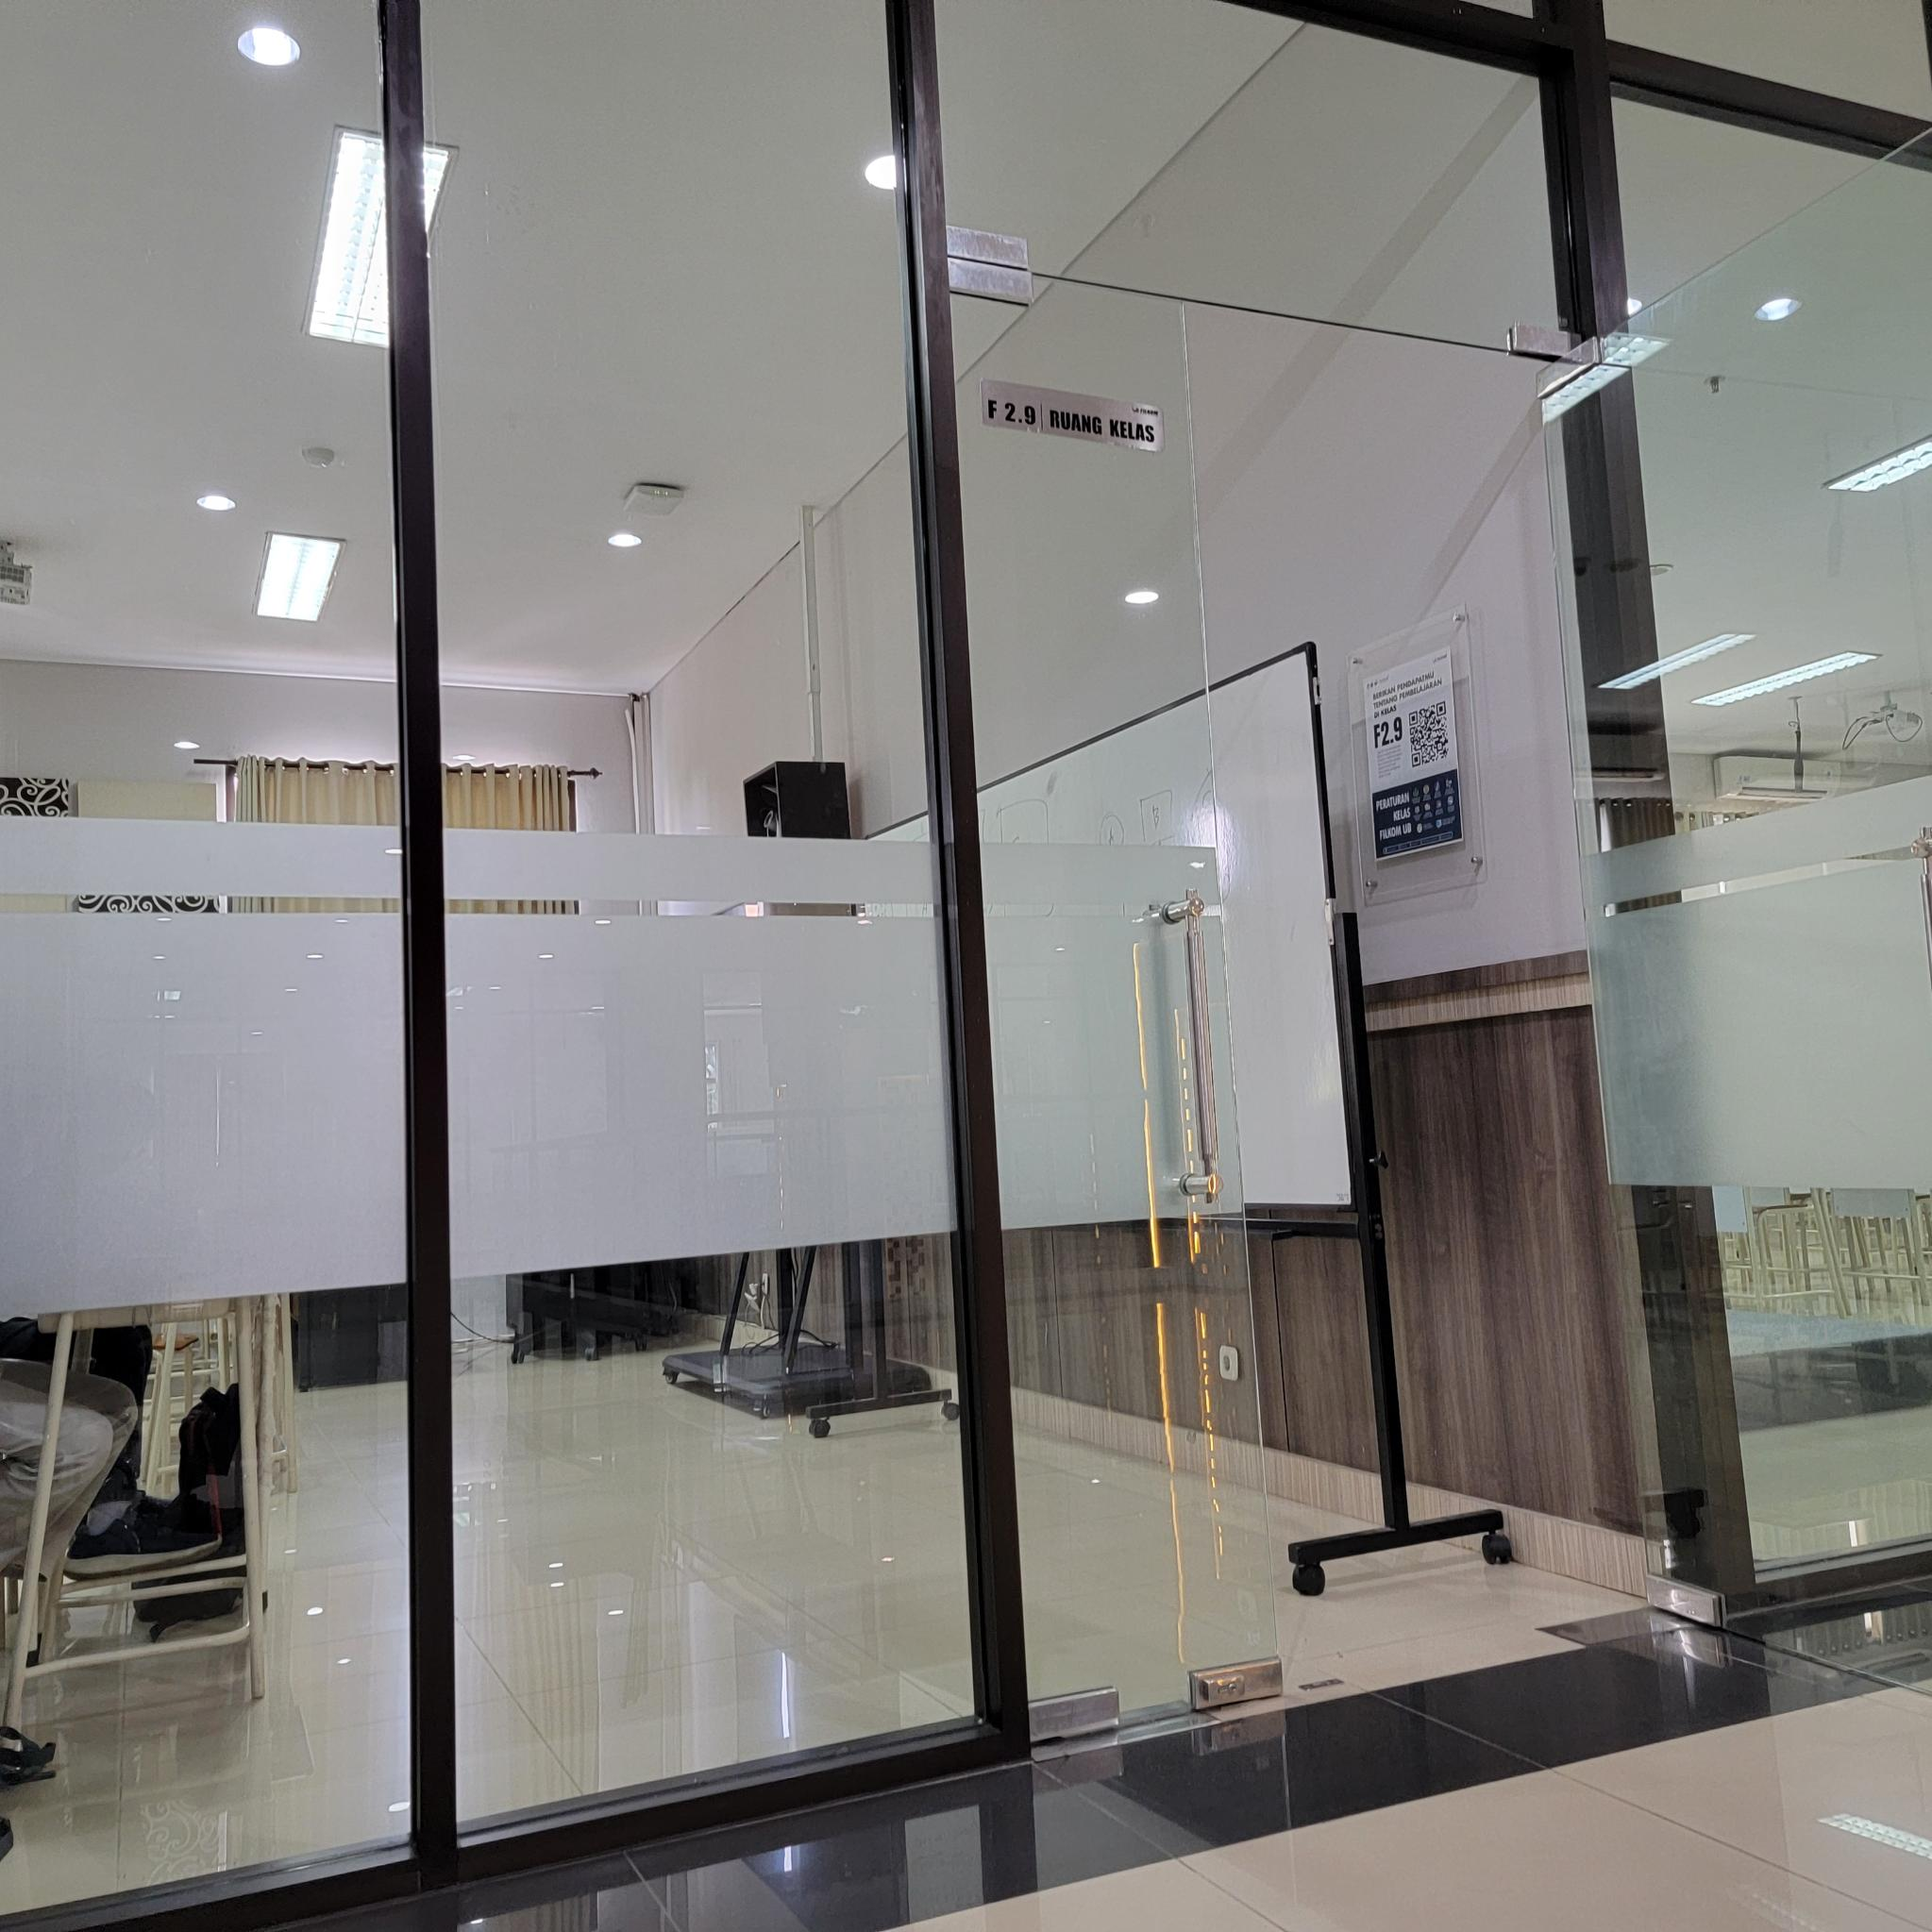plate: (980, 377, 1164, 455)
